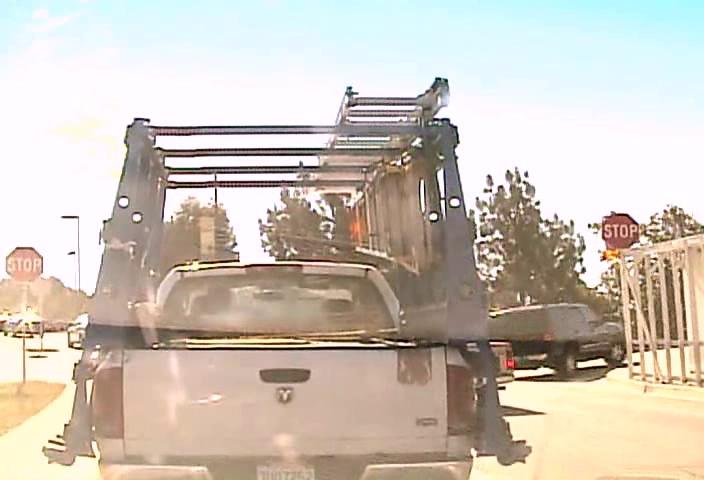stop: (600, 212, 639, 249)
